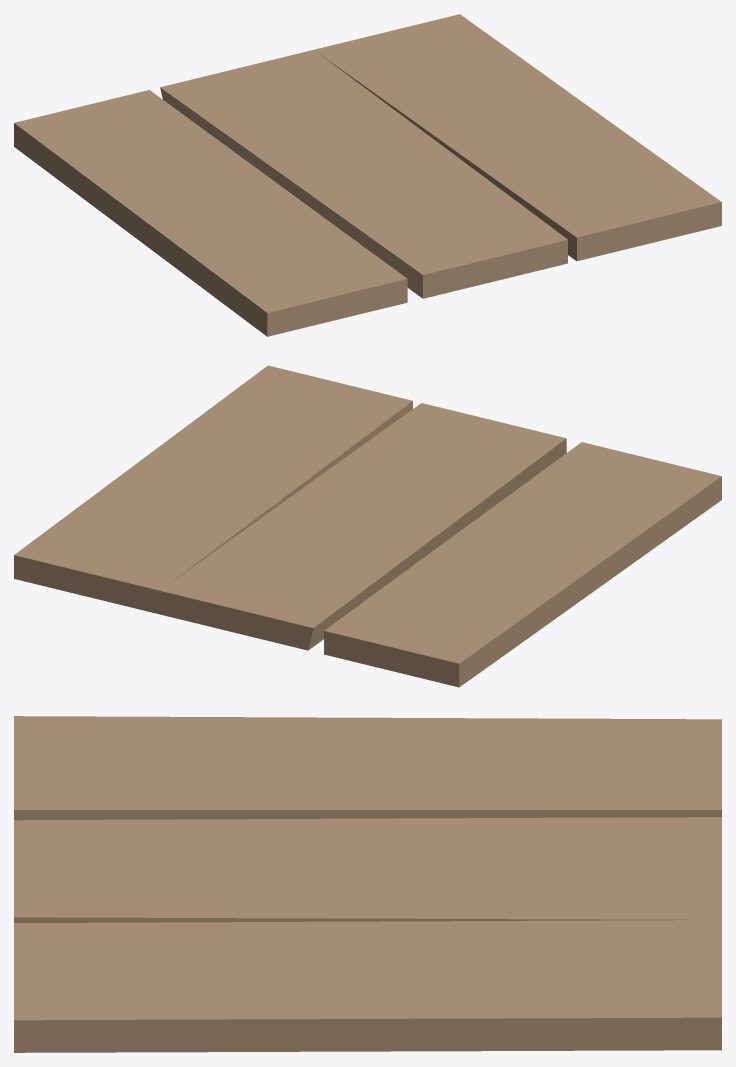
Rendered from Gallows_Hatch_2.fbx.
3 views of the same model, one above another, from view 1: azimuth 30°, elevation 25°; view 2: azimuth 150°, elevation 25°; view 3: azimuth 270°, elevation 25° (orthographic). The views are drawn at different scales.
Parts seen in each view (by area): view 1: Gallows_Hatch_2; view 2: Gallows_Hatch_2; view 3: Gallows_Hatch_2.
Part boxes in pixels (<box>): Gallows_Hatch_2: <box>14,14,721,336</box>; Gallows_Hatch_2: <box>14,365,721,687</box>; Gallows_Hatch_2: <box>14,716,721,1052</box>.
Bounding box in the file's own units: 90.25 × 4.51 × 88.79.
Materials: 1 (1 with a texture image).
